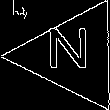N_S: (49, 30, 96, 81)
